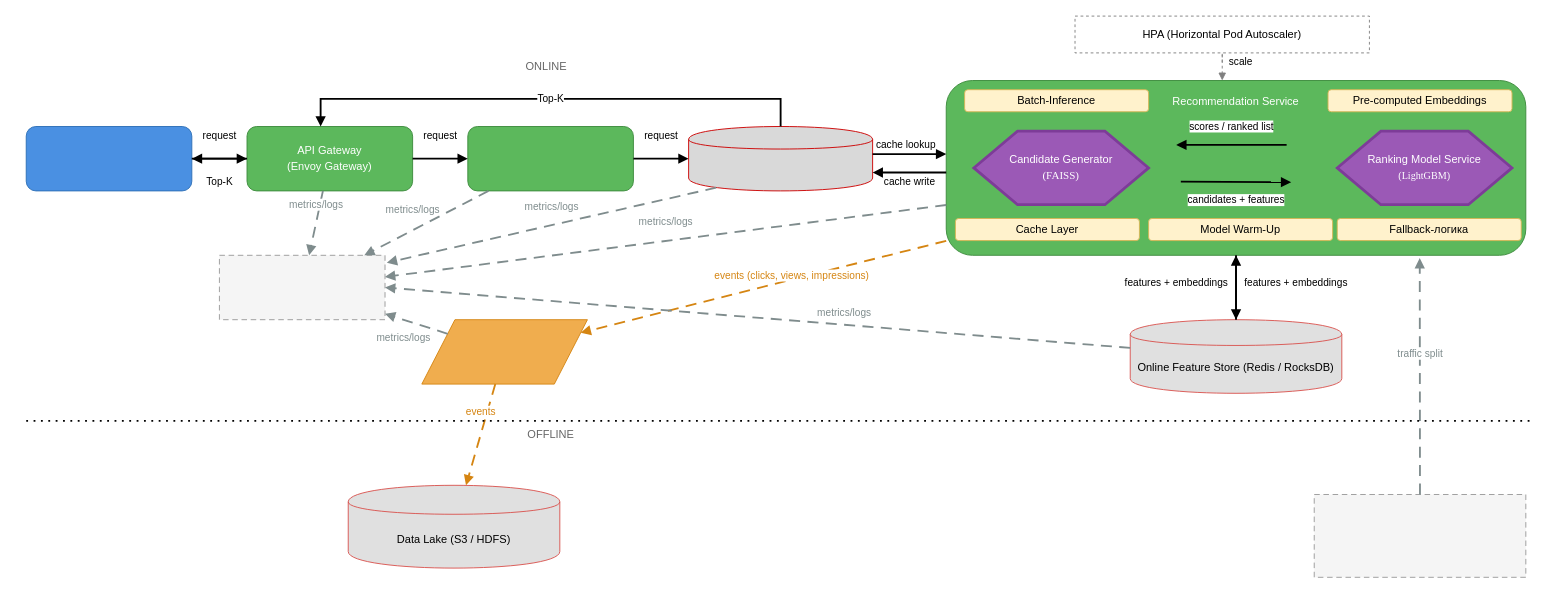
Image size: 1552x593. Some labels were removed from this diagram. Each missing label, with the box of its shape:
Cache Layer (Redis Cluster): (688, 126, 873, 191)
Canary Deployment (Argo Rollouts): (1313, 494, 1526, 577)
Event Logging: (421, 319, 587, 384)
Load Balancer ( MetalLB (L2/BGP) + Ingress (NGINX/Envoy) ): (467, 126, 633, 191)
Monitoring & Logging (Prometheus, ELK): (218, 254, 385, 320)
Web / Mobile Client: (25, 126, 192, 191)
